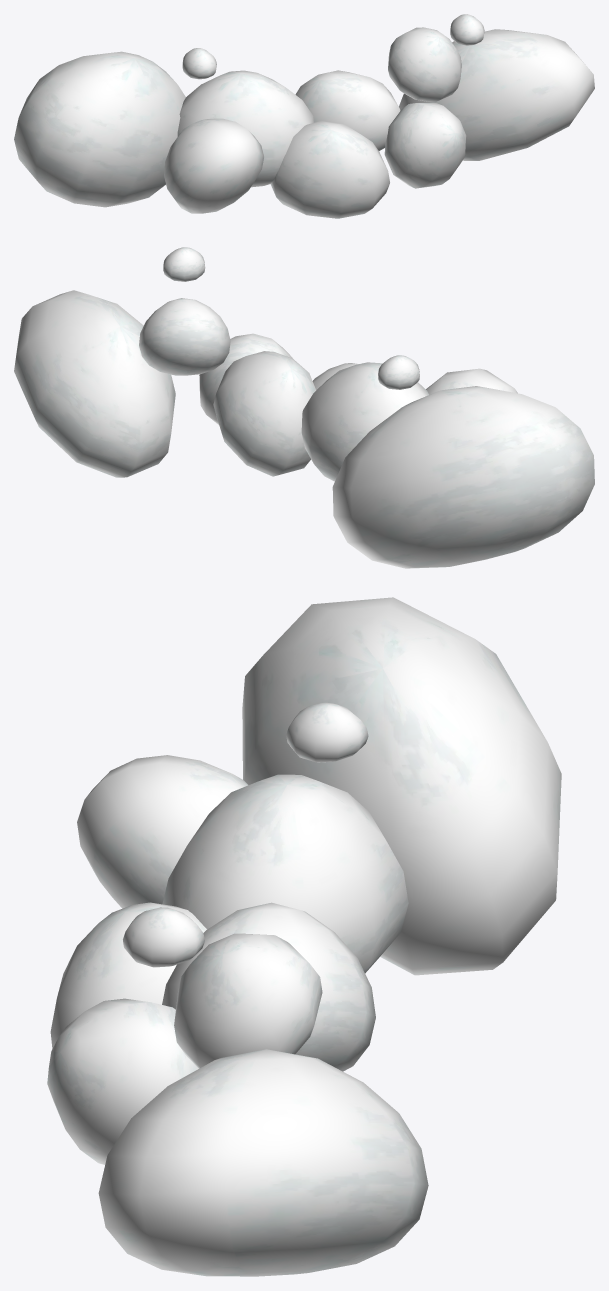
Rendered from waterfall-foam01.glb.
3 views of the same model, one above another, from view 1: azimuth 30°, elevation 25°; view 2: azimuth 150°, elevation 25°; view 3: azimuth 270°, elevation 25° (orthographic). The views are drawn at different scales.
Visible parts, largest first — view 1: WaterfallFoam01; view 2: WaterfallFoam01; view 3: WaterfallFoam01.
Part boxes in pixels (x1,y1,x2,y2): WaterfallFoam01: (14,14,594,218); WaterfallFoam01: (14,247,594,568); WaterfallFoam01: (47,597,561,1276).
Bounding box in the file's own units: 17.34 × 5.34 × 7.43.
Materials: 1 (1 with a texture image).
